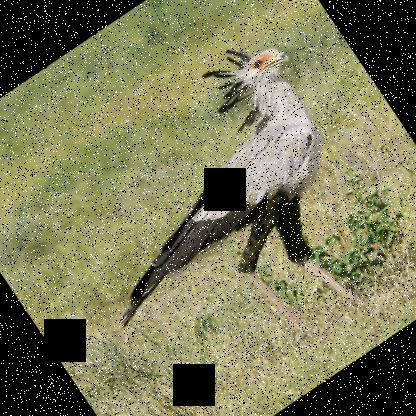Sagittarius serpentarius: (21, 21, 415, 415)
